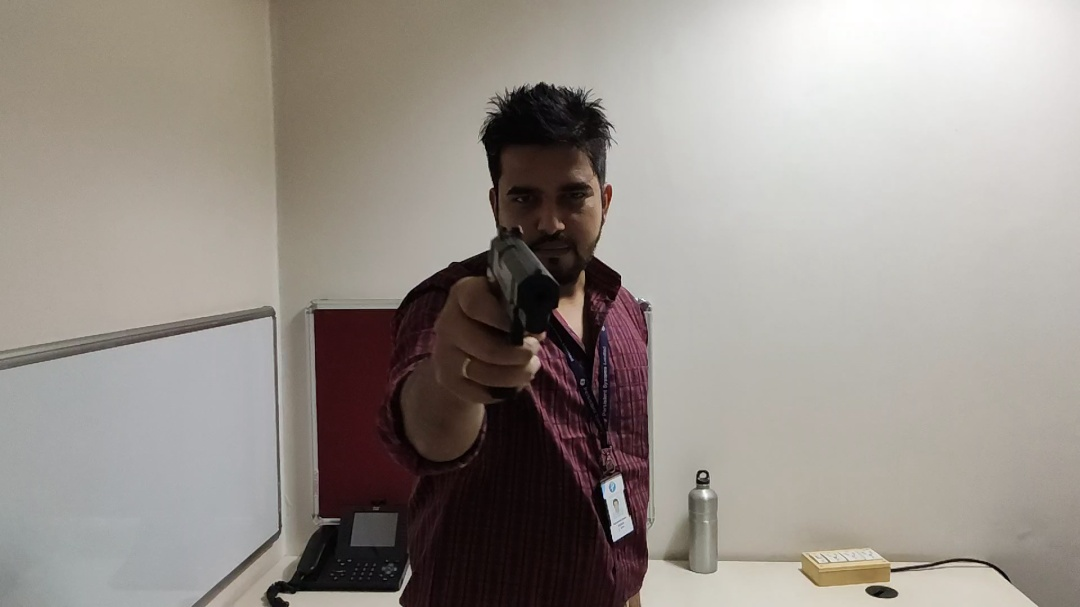gun: (472, 220, 563, 410)
